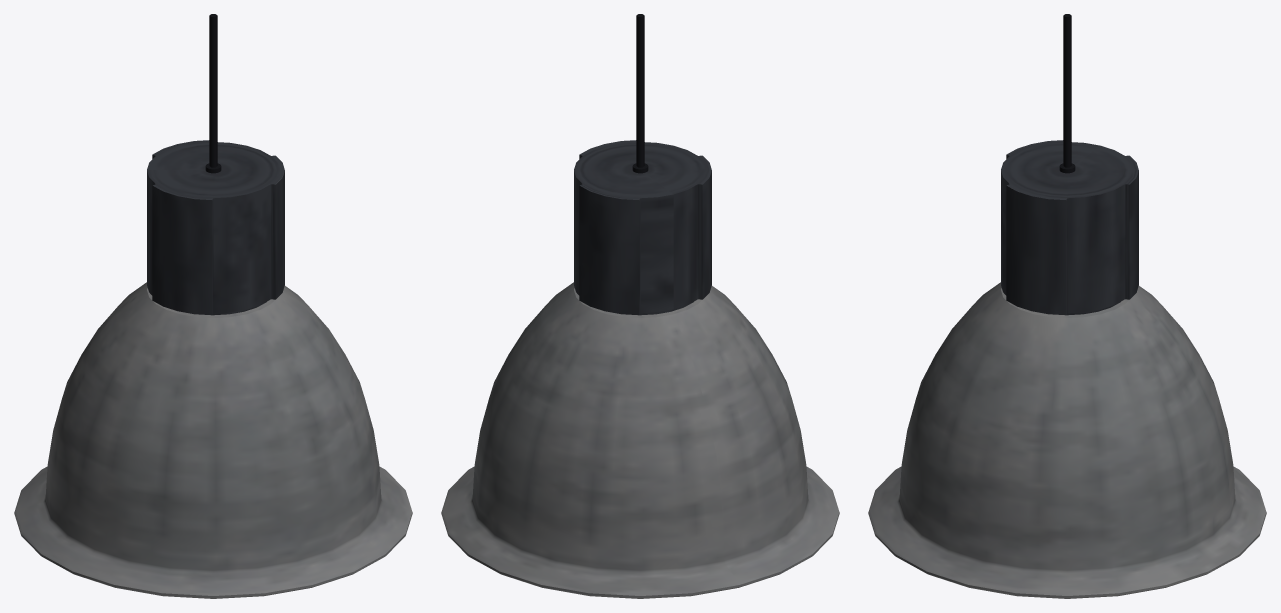
Rendered from LightHiPoly.fbx.
3 renders of one model, left to right at view 1: azimuth 30°, elevation 25°; view 2: azimuth 150°, elevation 25°; view 3: azimuth 270°, elevation 25°, orthographic.
Visible parts, largest first — view 1: Light; view 2: Light; view 3: Light.
Boxes of the visible parts, x1,y1,x2,y2 form: Light: (14,14,412,598); Light: (441,14,839,598); Light: (868,14,1266,598).
Bounding box in the file's own units: 178 × 246 × 178.
